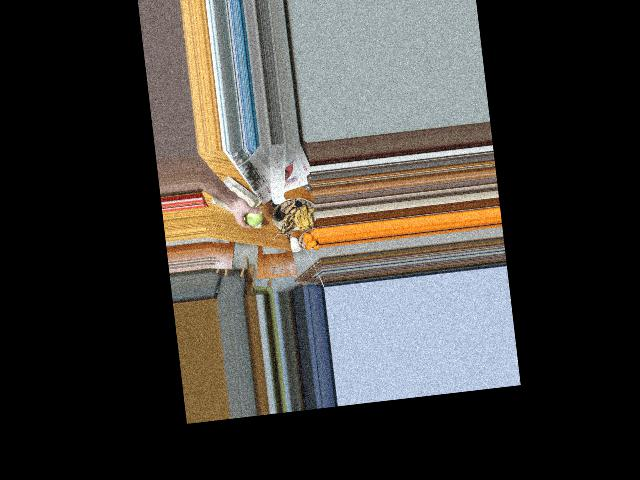apple: (243, 205, 264, 228)
